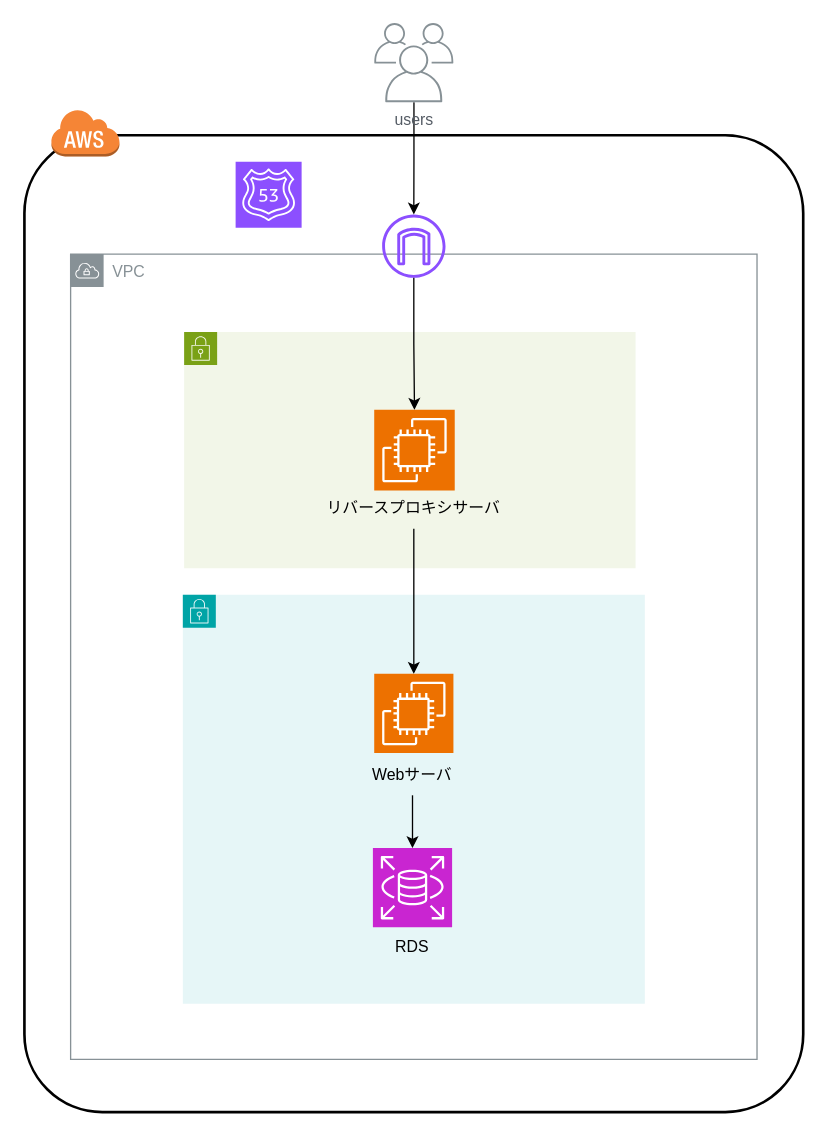
This 826x1135 diagram has some shape labels left out. The box of each missing label's shape, as (x1, y1, x2, y2) in pixels:
Private subnet: (182, 593, 645, 1004)
Public subnet: (183, 331, 636, 568)
